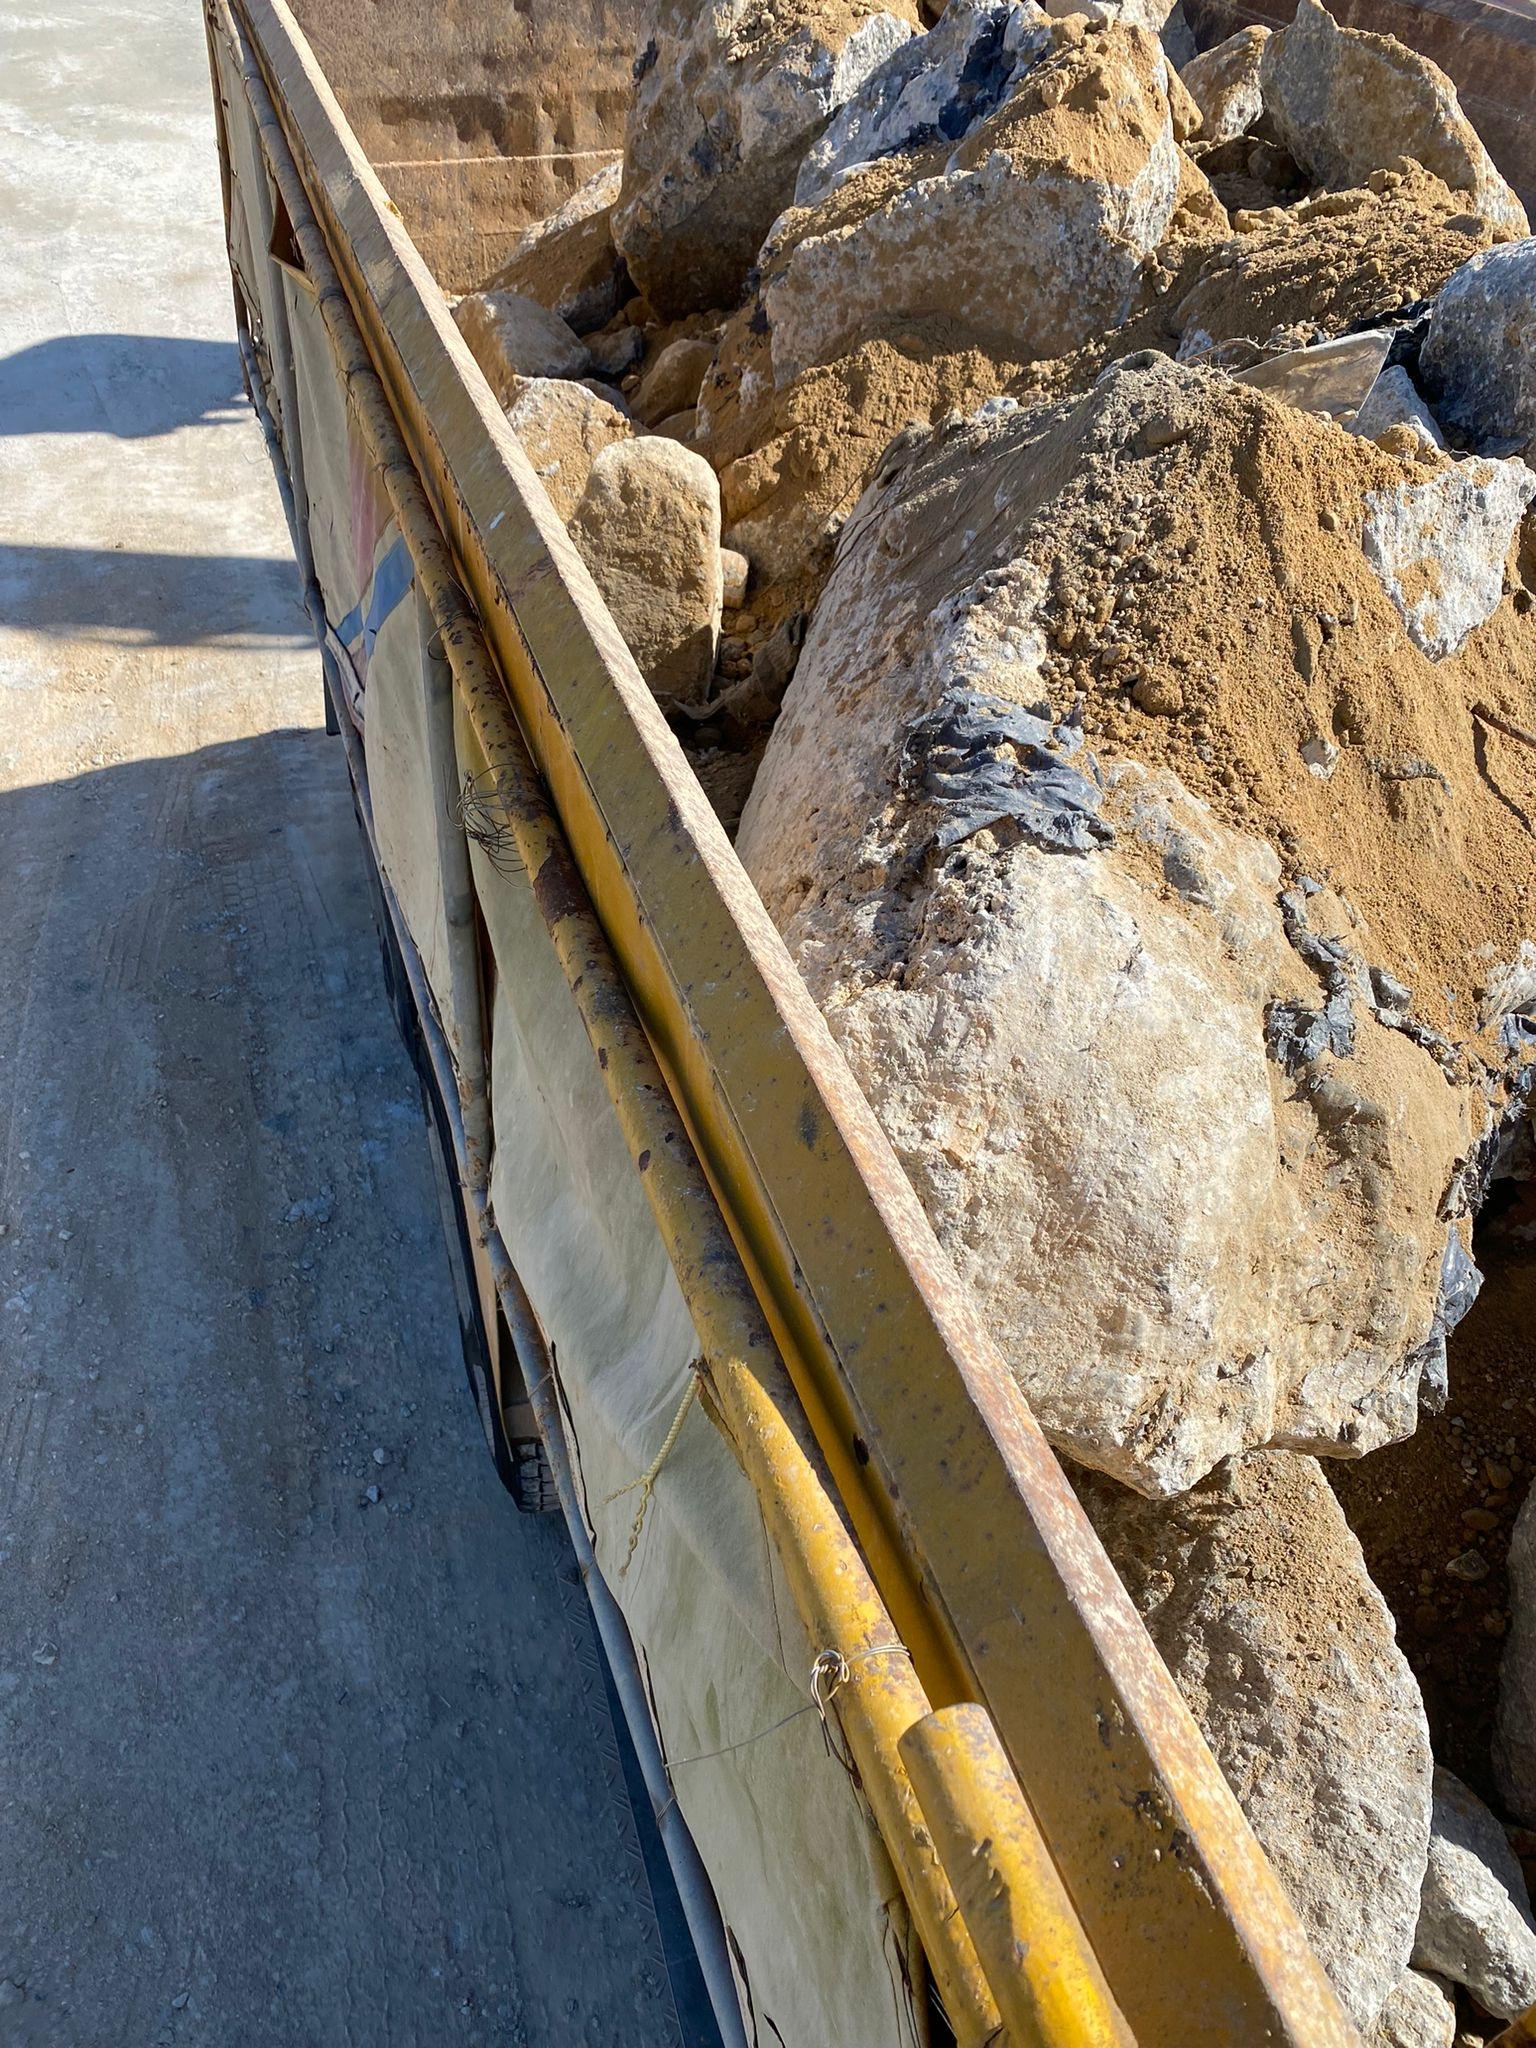dry: (616, 47, 1536, 1097)
